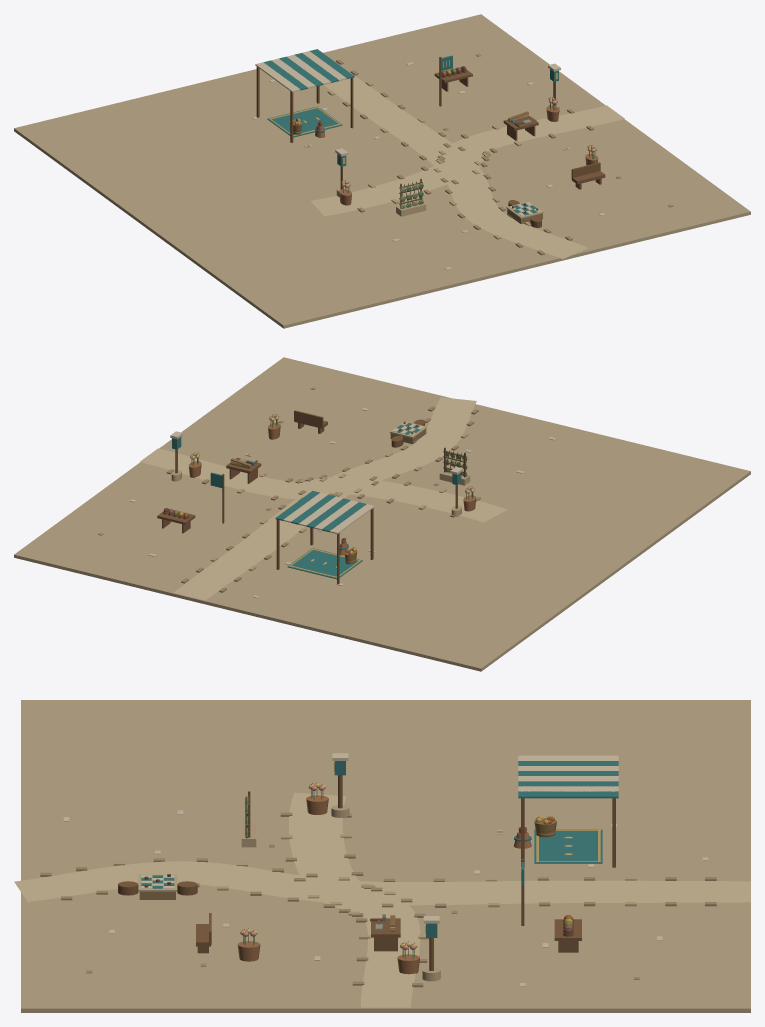
The model's file is city-lane-0.glb.
The picture shows the model from 3 angles, top to bottom: view 1: azimuth 30°, elevation 25°; view 2: azimuth 150°, elevation 25°; view 3: azimuth 270°, elevation 25°; orthographic projection. The views are drawn at different scales.
Visible parts, largest first — view 1: city-lane-0; view 2: city-lane-0; view 3: city-lane-0.
Part boxes in pixels (<box>): city-lane-0: <box>14,14,750,328</box>; city-lane-0: <box>14,357,750,671</box>; city-lane-0: <box>14,700,750,1012</box>.
Bounding box in the file's own units: 32 × 3.66 × 32.3.
